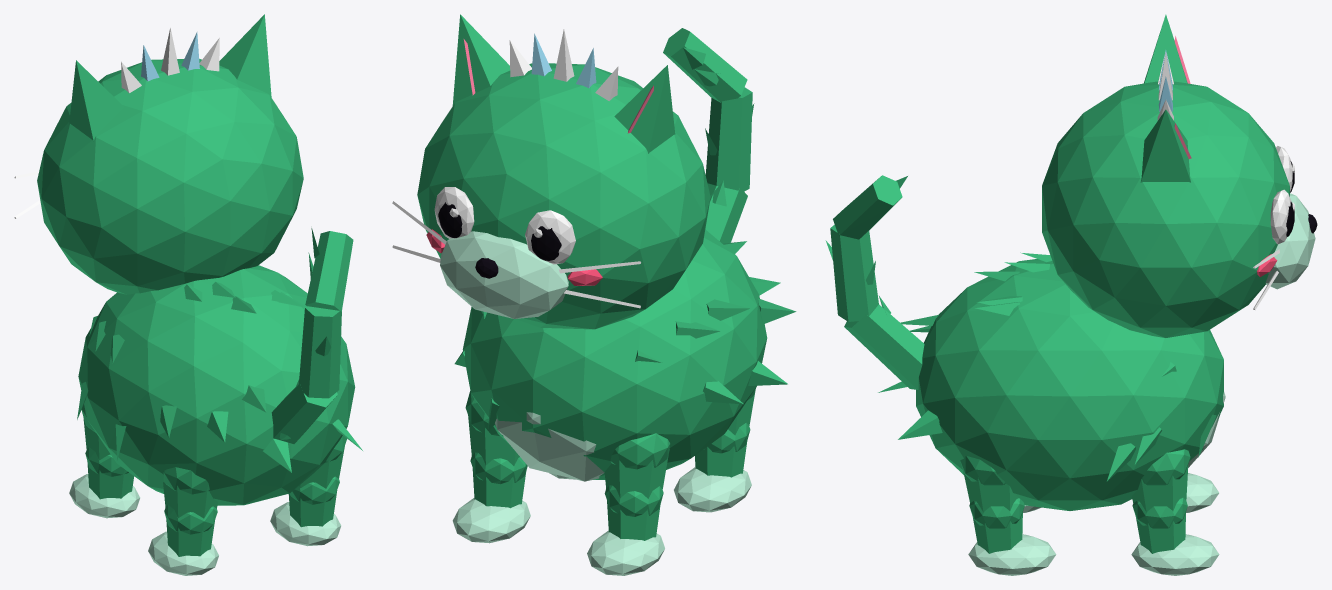
Rendered from mint_cat.obj.
3 renders of one model, left to right at view 1: azimuth 30°, elevation 25°; view 2: azimuth 150°, elevation 25°; view 3: azimuth 270°, elevation 25°, orthographic. The views are drawn at different scales.
Visible parts, largest first — view 1: Head_2_m4, Body_1_m1, Tail2_12_m25, Tail3_13_m26, Tail1_11_m24, Leg3Lo_8_m18, Leg3Up_7_m17, Leg4Lo_10_m21, Leg1Lo_4_m12, Leg3Lo_8_m19, Leg4Lo_10_m22, Leg1Lo_4_m13 (+5 smaller); view 2: Head_2_m4, Body_1_m1, Head_2_m5, Head_2_m7, Tail2_12_m25, Body_1_m2, Tail3_13_m26, Leg1Up_3_m11, Leg3Lo_8_m19, Leg1Lo_4_m13, Leg2Lo_6_m16, Leg1Lo_4_m12 (+8 smaller); view 3: Body_1_m1, Head_2_m4, Tail2_12_m25, Tail1_11_m24, Tail3_13_m26, Leg2Up_5_m14, Leg4Lo_10_m22, Leg2Lo_6_m16, Head_2_m5, Leg4Lo_10_m21, Leg2Lo_6_m15, Head_2_m7 (+3 smaller).
Boxes of the visible parts, bbox=[...] form: Head_2_m4: bbox=[37, 14, 303, 294]; Body_1_m1: bbox=[77, 265, 362, 505]; Tail2_12_m25: bbox=[298, 306, 341, 398]; Tail3_13_m26: bbox=[305, 228, 353, 311]; Tail1_11_m24: bbox=[271, 379, 337, 443]; Leg3Lo_8_m18: bbox=[164, 505, 217, 556]; Leg3Up_7_m17: bbox=[163, 467, 217, 518]; Leg4Lo_10_m21: bbox=[288, 476, 339, 527]; Leg1Lo_4_m12: bbox=[85, 447, 134, 499]; Leg3Lo_8_m19: bbox=[148, 531, 218, 575]; Leg4Lo_10_m22: bbox=[270, 502, 341, 546]; Leg1Lo_4_m13: bbox=[69, 474, 140, 518]; Head_2_m4: bbox=[417, 14, 710, 329]; Body_1_m1: bbox=[454, 229, 787, 479]; Head_2_m5: bbox=[440, 231, 568, 318]; Head_2_m7: bbox=[392, 29, 640, 308]; Tail2_12_m25: bbox=[705, 87, 754, 191]; Body_1_m2: bbox=[495, 412, 604, 481]; Tail3_13_m26: bbox=[663, 28, 747, 102]; Leg1Up_3_m11: bbox=[604, 433, 670, 498]; Leg3Lo_8_m19: bbox=[674, 467, 751, 512]; Leg1Lo_4_m13: bbox=[587, 530, 664, 575]; Leg2Lo_6_m16: bbox=[452, 498, 530, 543]; Leg1Lo_4_m12: bbox=[604, 485, 663, 540]; Body_1_m1: bbox=[878, 252, 1223, 510]; Head_2_m4: bbox=[1042, 14, 1289, 337]; Tail2_12_m25: bbox=[825, 225, 878, 321]; Tail1_11_m24: bbox=[844, 296, 924, 389]; Tail3_13_m26: bbox=[833, 175, 907, 239]; Leg2Up_5_m14: bbox=[1131, 449, 1190, 512]; Leg4Lo_10_m22: bbox=[968, 534, 1056, 575]; Leg2Lo_6_m16: bbox=[1131, 534, 1219, 575]; Head_2_m5: bbox=[1265, 193, 1315, 289]; Leg4Lo_10_m21: bbox=[969, 498, 1024, 553]; Leg2Lo_6_m15: bbox=[1132, 498, 1187, 553]; Head_2_m7: bbox=[1157, 52, 1292, 309].
Size of the model in its own units: 1.57 by 2.81 by 2.56.
